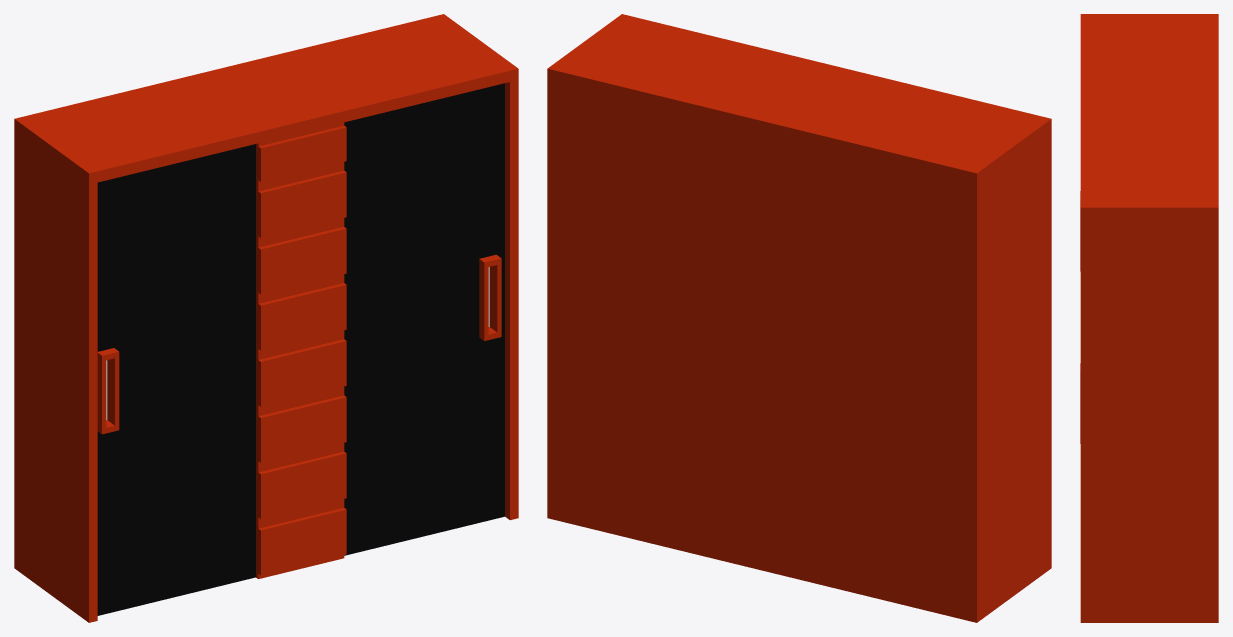
File: Large wardrobe 2.fbx
3 views of the same model, side by side, from view 1: azimuth 30°, elevation 25°; view 2: azimuth 150°, elevation 25°; view 3: azimuth 270°, elevation 25° (orthographic). The views are drawn at different scales.
Visible parts, largest first — view 1: wardrobe large; view 2: wardrobe large; view 3: wardrobe large.
Part boxes in pixels (box(x1,y1,x2,y2)): wardrobe large: box(14, 14, 518, 622); wardrobe large: box(547, 14, 1051, 622); wardrobe large: box(1080, 14, 1218, 622).
Bounding box in the file's own units: 2.4 × 2.4 × 0.7228.
